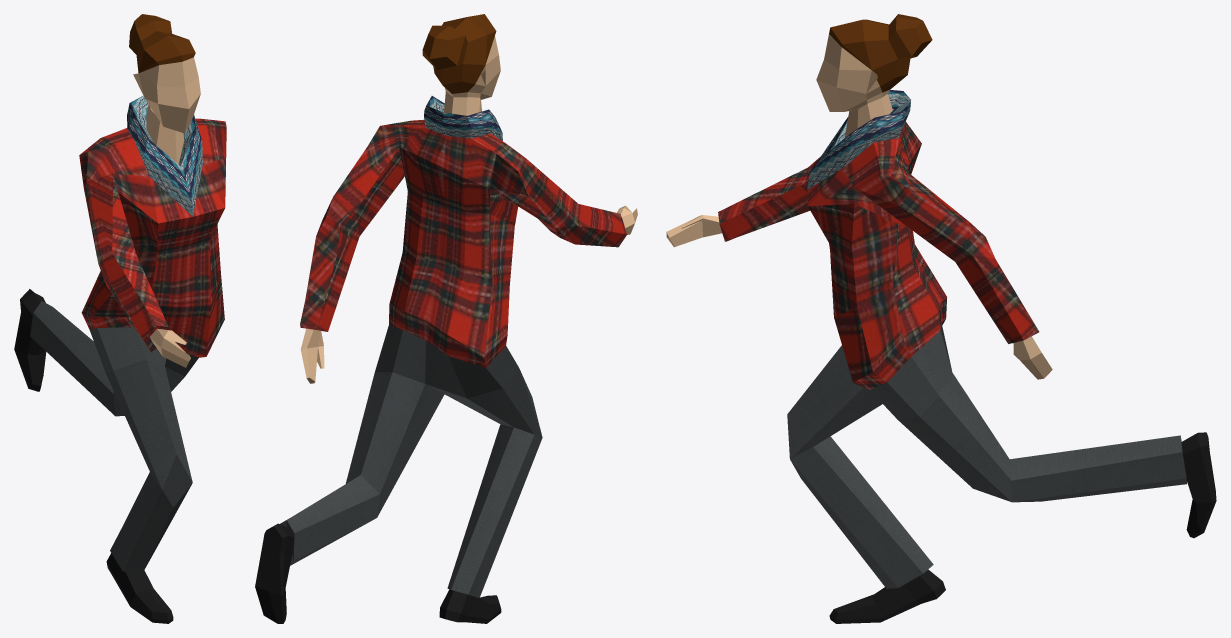
File: AutumnWomanC.008.glb
3 renders of one model, left to right at view 1: azimuth 30°, elevation 25°; view 2: azimuth 150°, elevation 25°; view 3: azimuth 270°, elevation 25°, orthographic. The views are drawn at different scales.
Visible parts, largest first — view 1: AutumnWomanC.008; view 2: AutumnWomanC.008; view 3: AutumnWomanC.008.
Boxes of the visible parts, left/top/right/bottom form: AutumnWomanC.008: left=14, top=14, right=226, bottom=623; AutumnWomanC.008: left=255, top=14, right=637, bottom=623; AutumnWomanC.008: left=666, top=14, right=1216, bottom=623.
Bounding box in the file's own units: 0.4928 × 1.54 × 1.25.
Materials: 1 (1 with a texture image).
